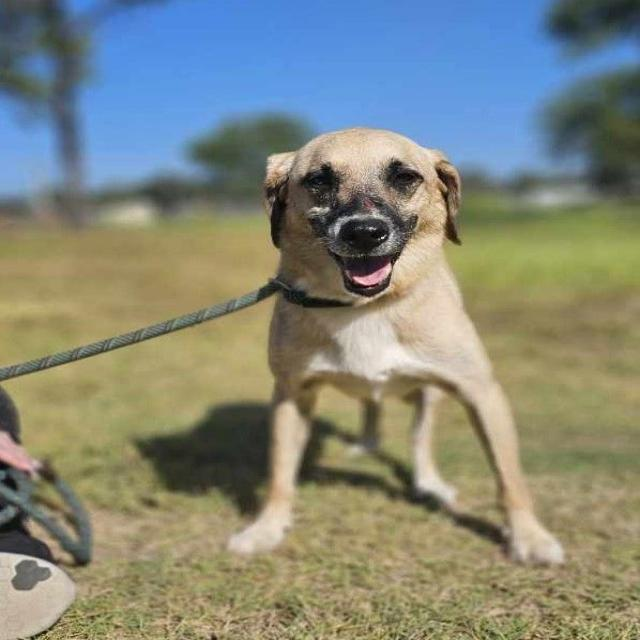labrador_retriever_dog: (244, 117, 488, 325)
